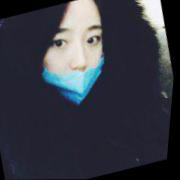WRONG: (31, 14, 123, 113)
